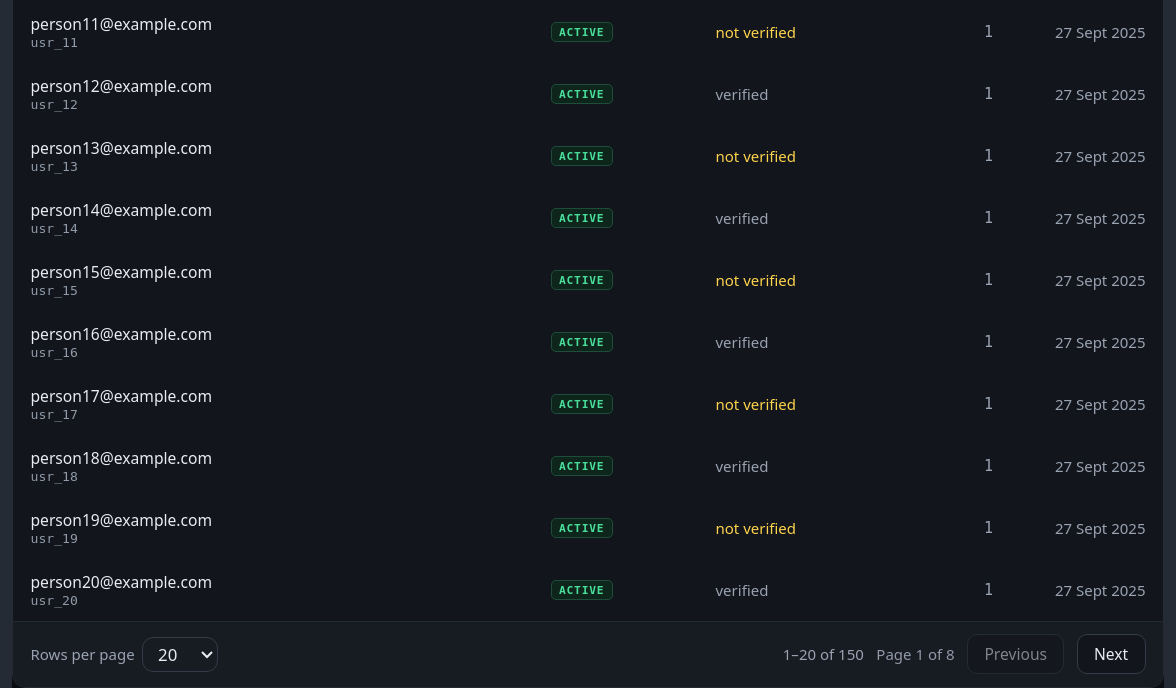
Test: the user list › changes the page size and goes back to the first page
This screenshot has width=1176, height=688.
(page scrolled)
Select "100" in the dropdown labelled "Rows per page" at (180, 654), box x1=142 y1=636 x2=218 y2=672
(page scrolled)
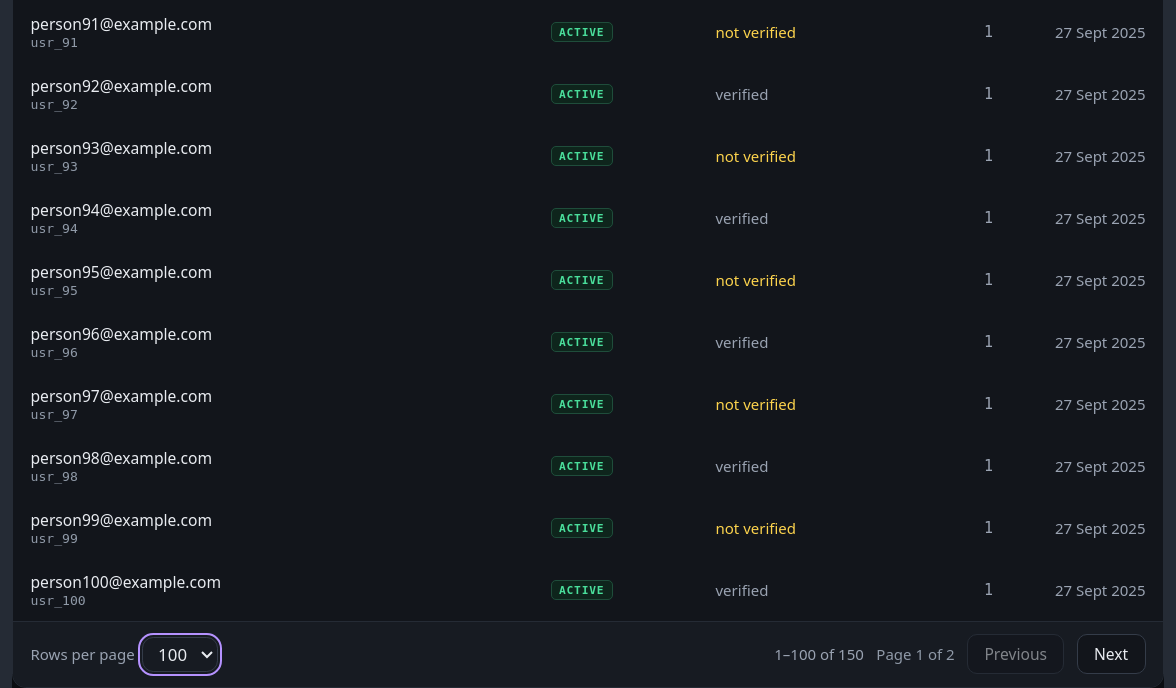
Check: the text "1–100 of 150" is shown, box x1=774 y1=644 x2=864 y2=664
Select "10" in the dropdown labelled "Rows per page" at (180, 654), box x1=142 y1=636 x2=218 y2=672
(page scrolled)
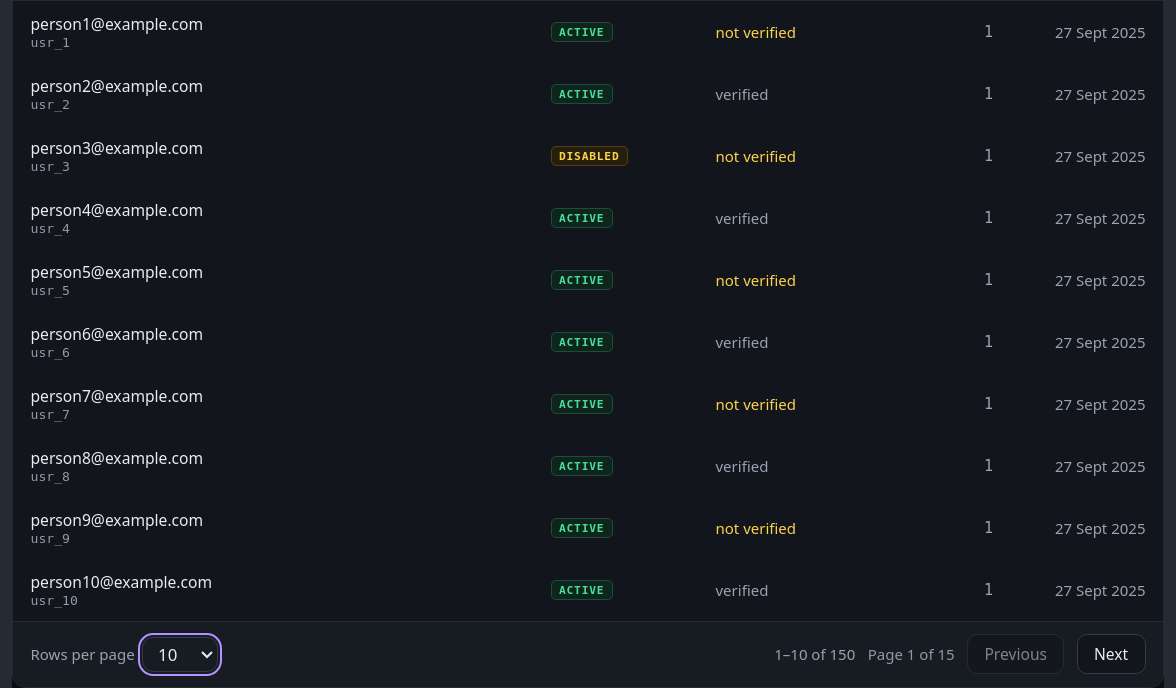
Check: the text "1–10 of 150" is shown, box x1=774 y1=644 x2=855 y2=664
